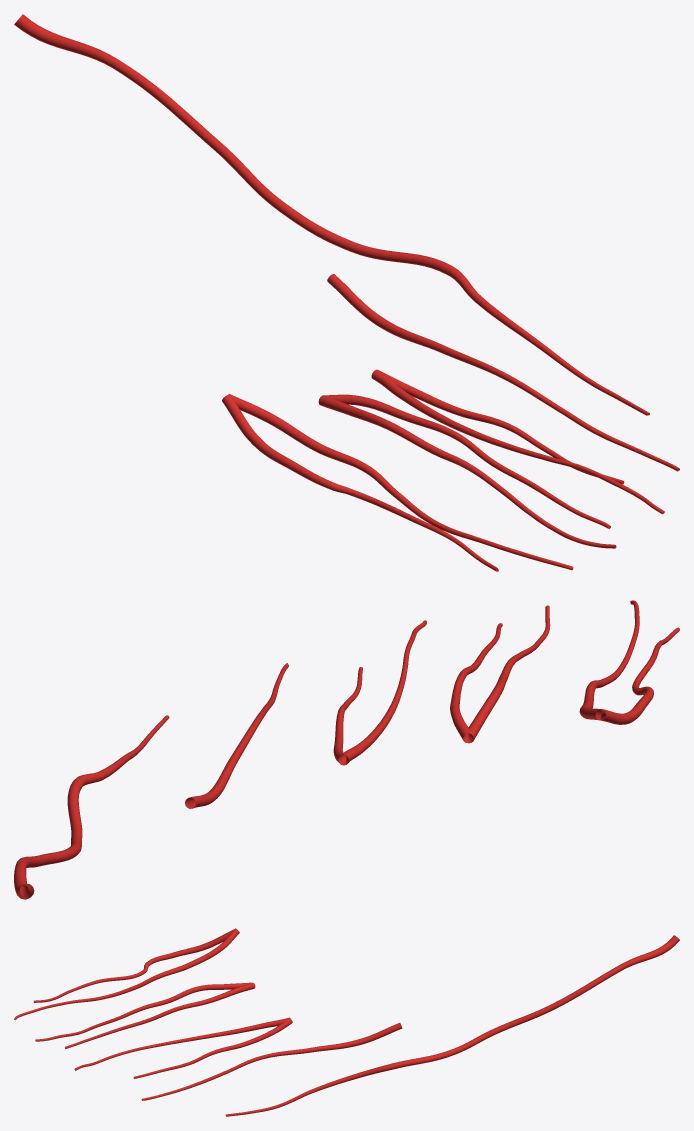
File: circulatorio-dorsal-digital-arteries-of-foot-l.glb
3 views of the same model, one above another, from view 1: azimuth 30°, elevation 25°; view 2: azimuth 150°, elevation 25°; view 3: azimuth 270°, elevation 25° (orthographic). The views are drawn at different scales.
Visible parts, largest first — view 1: Dorsal digital arteries of foot.l; view 2: Dorsal digital arteries of foot.l; view 3: Dorsal digital arteries of foot.l.
Part boxes in pixels (box(x1,y1,x2,y2)): Dorsal digital arteries of foot.l: box(14, 14, 679, 571); Dorsal digital arteries of foot.l: box(14, 600, 679, 899); Dorsal digital arteries of foot.l: box(14, 928, 679, 1116).
Bounding box in the file's own units: 0.063 × 0.0265 × 0.1464.
